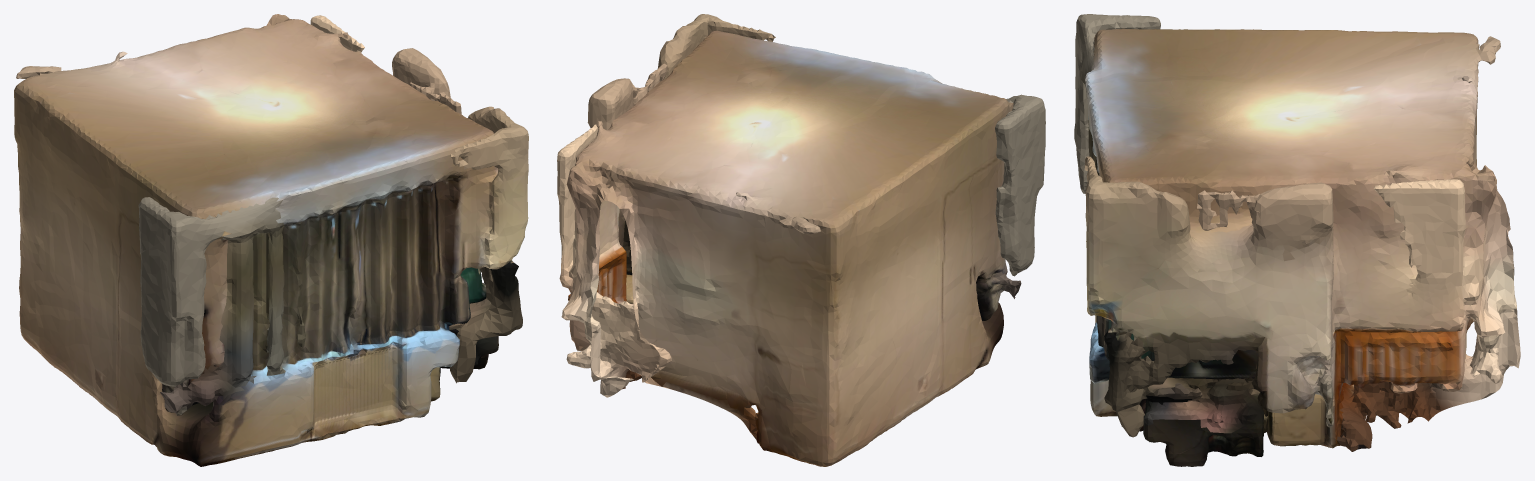
Rendered from rom with colour2.fbx.
3 renders of one model, left to right at view 1: azimuth 30°, elevation 25°; view 2: azimuth 150°, elevation 25°; view 3: azimuth 270°, elevation 25°, orthographic. The views are drawn at different scales.
Parts seen in each view (by area): view 1: poly; view 2: poly; view 3: poly.
Part boxes in pixels (x1,y1,x2,y2): poly: (14, 14, 528, 466); poly: (557, 14, 1045, 466); poly: (1074, 14, 1520, 466).
Bounding box in the file's own units: 359 × 256 × 360.
Materials: 1 (1 with a texture image).
